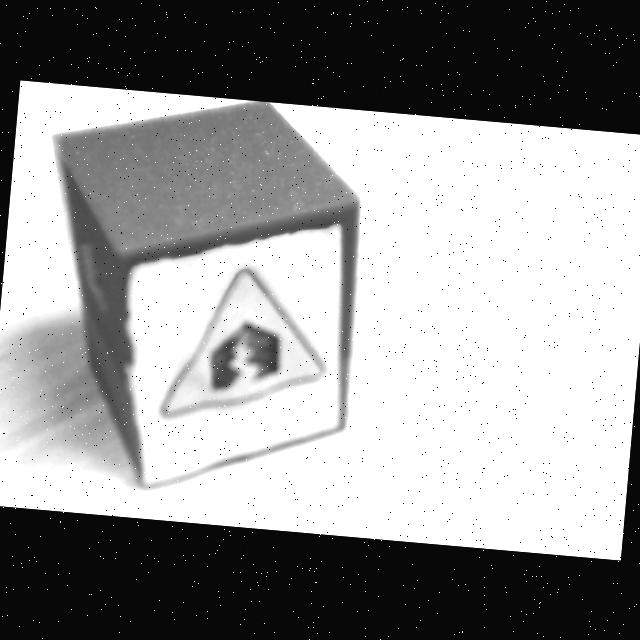Earthquake: (158, 262, 332, 433), (160, 268, 328, 422)
